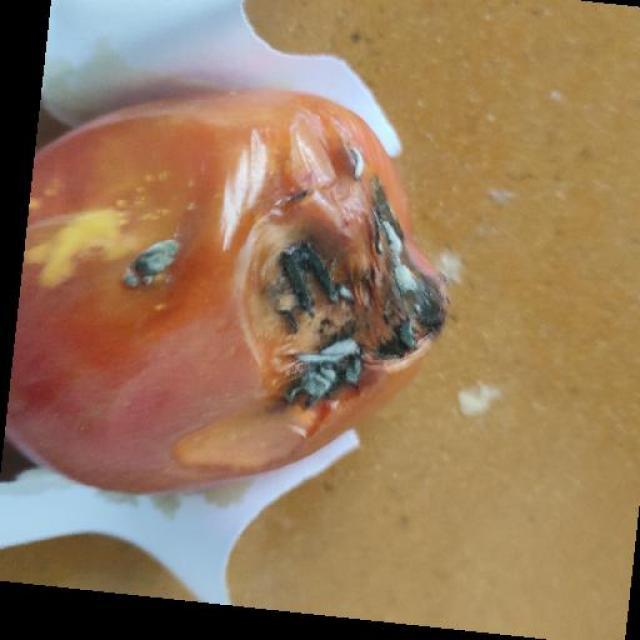Rotten Tomato: (17, 54, 450, 519)
